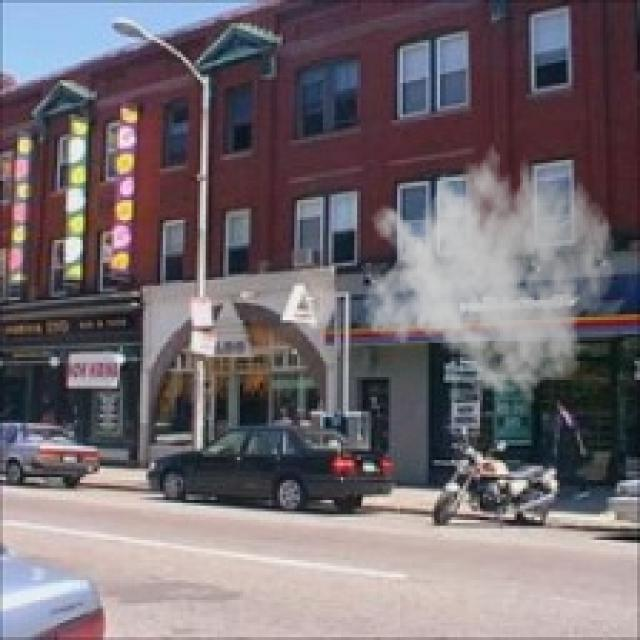smoke: (363, 128, 617, 406)
